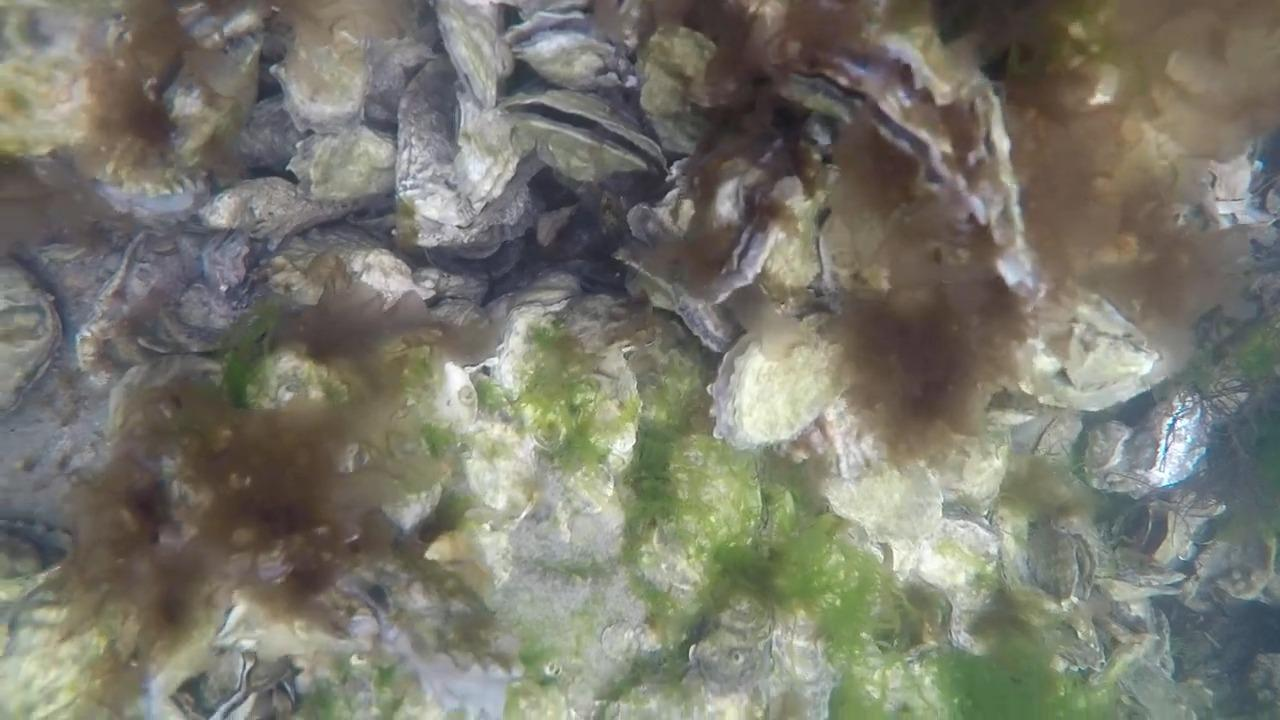Oyster: (782, 13, 1030, 285), (645, 143, 825, 343), (315, 551, 517, 713), (393, 58, 557, 253), (69, 224, 214, 374), (716, 292, 854, 444), (0, 5, 123, 168), (0, 566, 126, 720), (1011, 292, 1165, 416), (707, 319, 848, 454), (486, 284, 626, 418), (840, 21, 992, 136), (817, 456, 954, 573), (250, 230, 426, 321), (200, 581, 355, 682), (504, 85, 668, 179), (200, 172, 387, 249), (497, 505, 628, 612), (621, 250, 742, 365), (505, 87, 661, 176), (99, 348, 226, 450), (815, 165, 910, 301), (504, 9, 642, 96), (634, 22, 724, 146), (269, 30, 378, 132), (139, 601, 237, 710), (0, 255, 65, 416), (278, 0, 411, 76), (276, 23, 368, 132), (283, 125, 402, 206), (1099, 623, 1196, 720), (751, 195, 833, 309), (457, 416, 541, 524), (755, 614, 842, 718), (433, 0, 512, 114), (686, 605, 784, 696), (628, 515, 726, 605), (898, 512, 995, 602), (451, 103, 528, 214), (1009, 516, 1095, 610), (240, 342, 351, 414), (1085, 586, 1175, 674), (549, 441, 632, 530), (290, 128, 397, 197), (361, 33, 440, 123), (809, 398, 887, 486), (1186, 534, 1275, 606), (167, 264, 250, 338), (942, 429, 1015, 510), (232, 93, 305, 174), (1075, 417, 1150, 494), (1045, 599, 1115, 677), (495, 271, 589, 327), (187, 646, 256, 716), (1200, 151, 1265, 225), (943, 581, 1006, 657), (408, 264, 493, 319), (197, 226, 256, 302), (723, 215, 782, 290), (377, 477, 444, 541), (1098, 571, 1187, 614), (1023, 408, 1084, 464), (559, 503, 619, 557)
